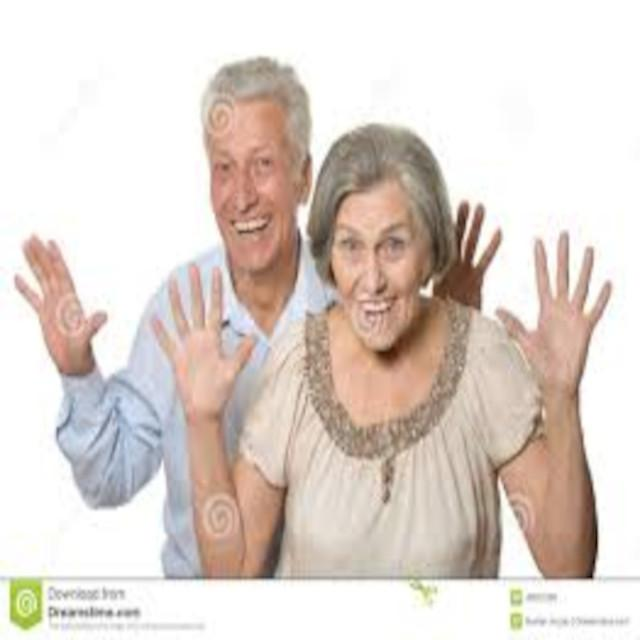kobieta: (255, 114, 604, 640)
mezczyzna: (37, 47, 311, 640)
